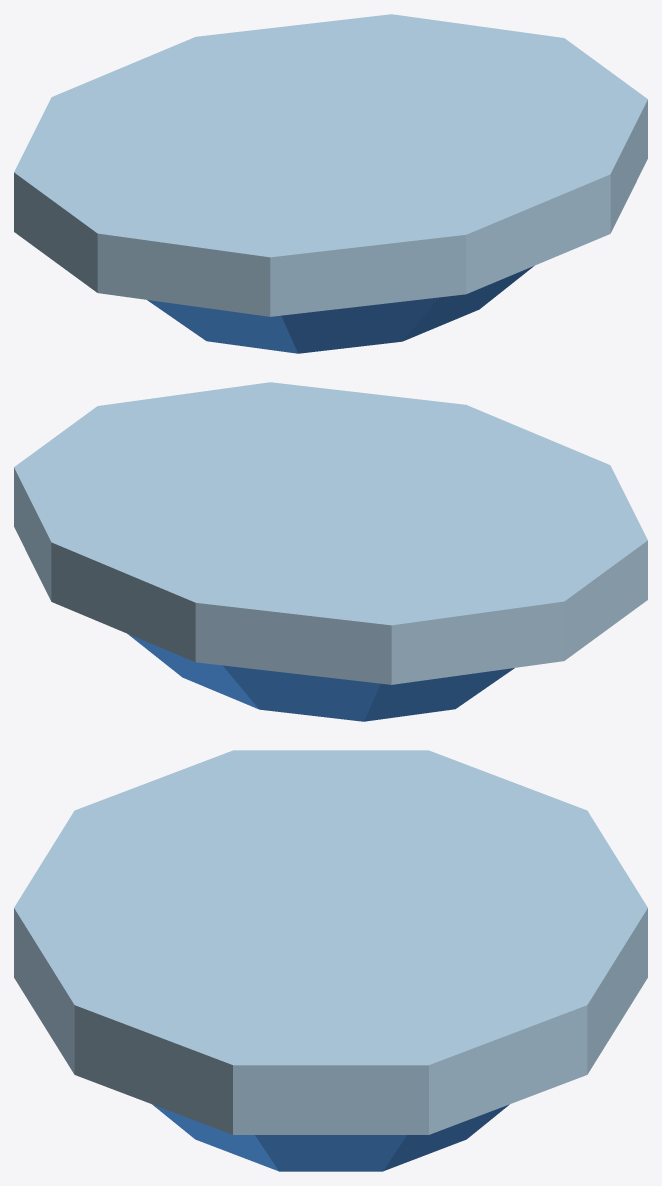
The model's file is ice_tile.glb.
3 views of the same model, one above another, from view 1: azimuth 30°, elevation 25°; view 2: azimuth 150°, elevation 25°; view 3: azimuth 270°, elevation 25° (orthographic). The views are drawn at different scales.
Visible parts, largest first — view 1: ice_tile; view 2: ice_tile; view 3: ice_tile.
Part boxes in pixels (box(x1,y1,x2,y2)): ice_tile: box(14, 14, 647, 353); ice_tile: box(14, 382, 647, 721); ice_tile: box(14, 750, 647, 1171).
Bounding box in the file's own units: 3.1 × 0.825 × 2.63.
